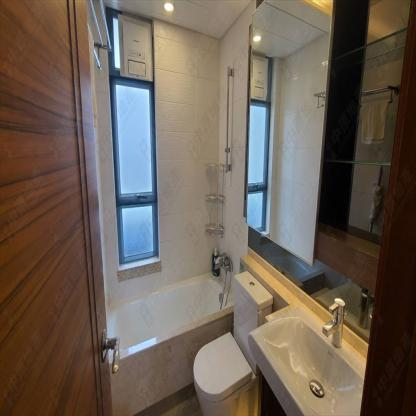Bathtub: (111, 268, 235, 415)
Faucet: (324, 289, 350, 352)
Toilet: (192, 266, 273, 415)
Toilet Sink: (246, 311, 367, 415)
